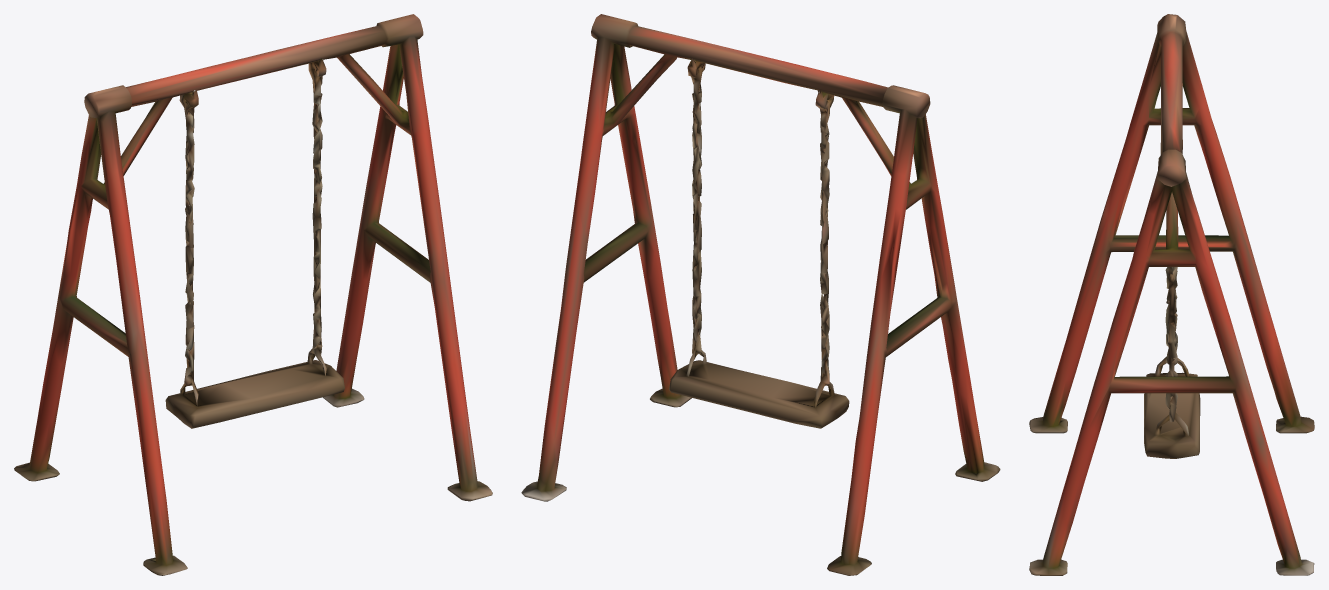
The model's file is swing.glb.
3 renders of one model, left to right at view 1: azimuth 30°, elevation 25°; view 2: azimuth 150°, elevation 25°; view 3: azimuth 270°, elevation 25°, orthographic. The views are drawn at different scales.
Visible parts, largest first — view 1: base, swing_seat; view 2: base, swing_seat; view 3: base, swing_seat.
Boxes of the visible parts, bbox=[...] form: base: bbox=[14, 14, 492, 575]; swing_seat: bbox=[165, 58, 344, 428]; base: bbox=[521, 14, 1000, 575]; swing_seat: bbox=[669, 58, 849, 428]; base: bbox=[1029, 14, 1314, 575]; swing_seat: bbox=[1144, 83, 1200, 458].
Bounding box in the file's own units: 2.99 × 3.6 × 2.28.
